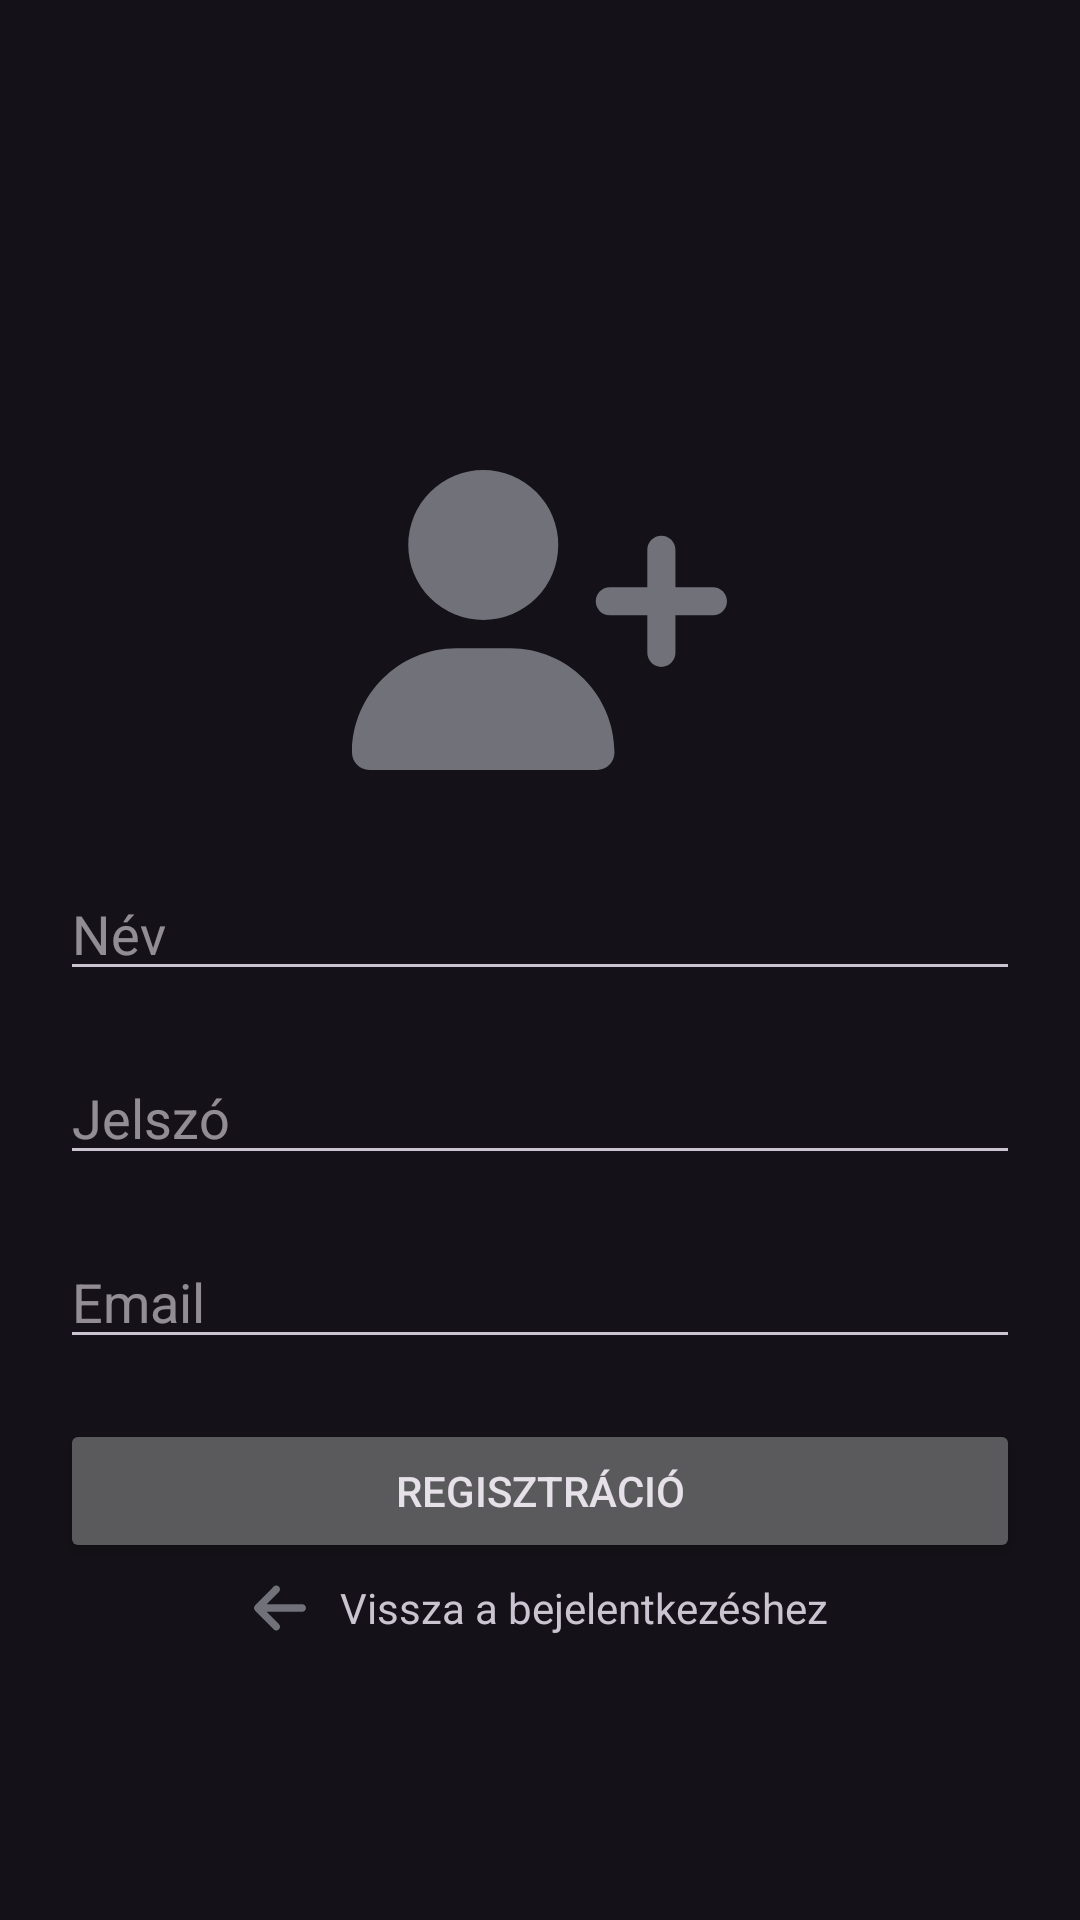

Icon bounding boxes for this 1080×1920 phone screenshot, format [left=x1, top=y1, right=x2, bottom=y2]:
arrow left: [left=254, top=1585, right=306, bottom=1631]
